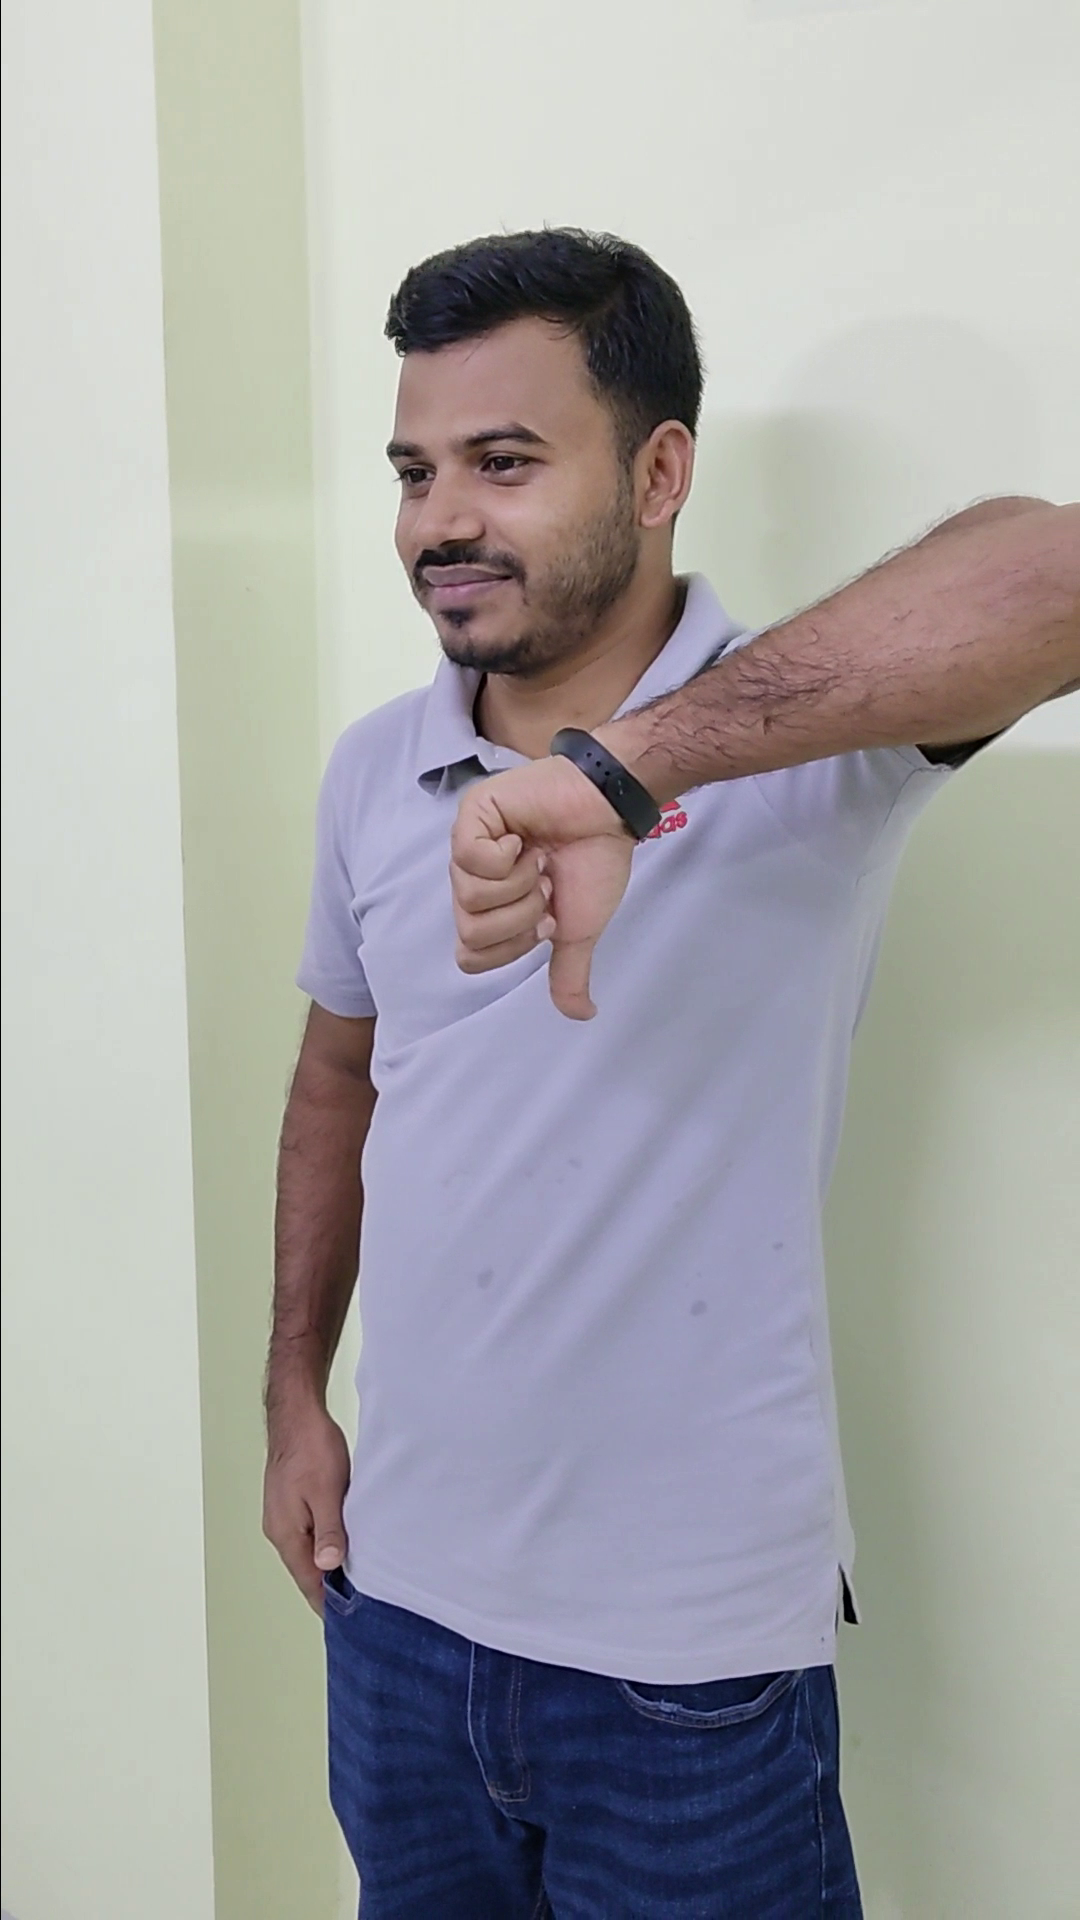Dislike: (421, 713, 651, 1039)
None: (233, 1348, 380, 1640)
